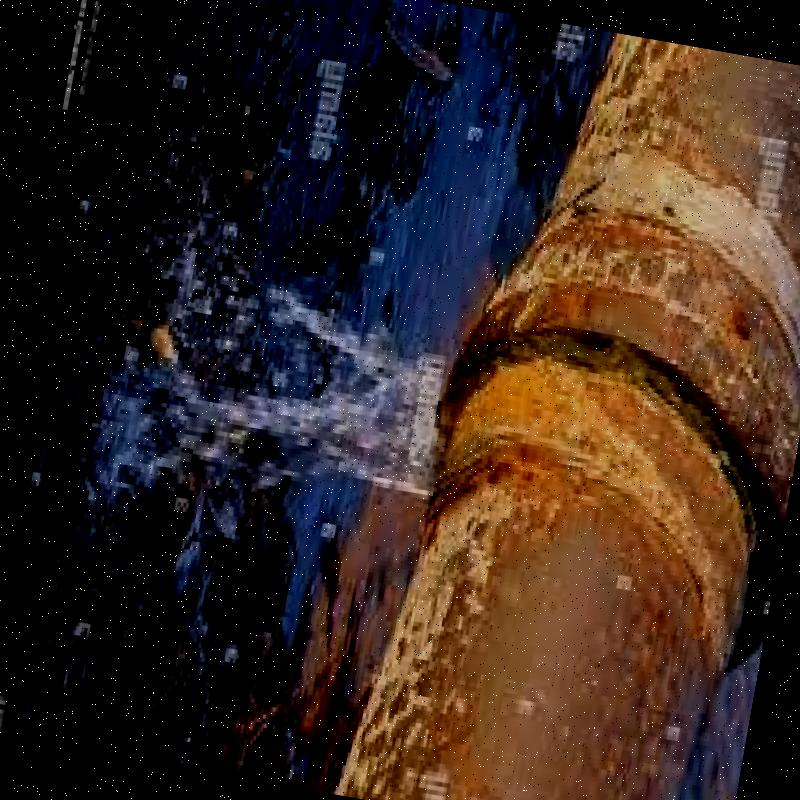Fracture: (218, 195, 570, 546)
